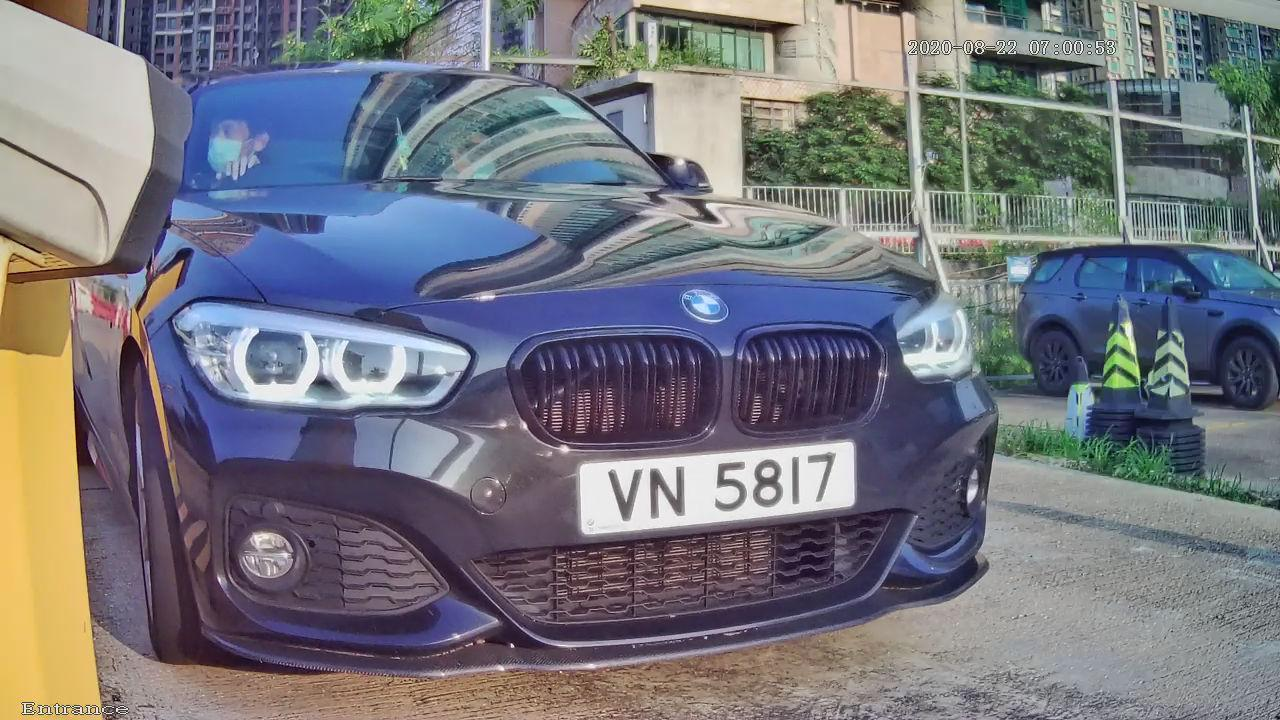Car: (63, 29, 1063, 672)
License Plate: (548, 421, 891, 578)
